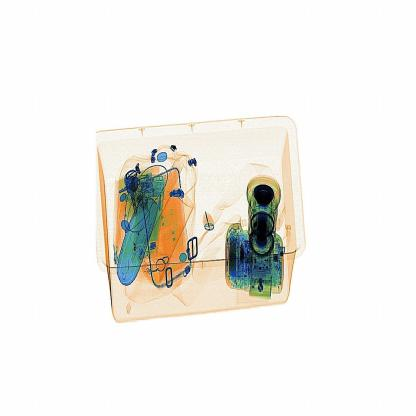wrench: (197, 201, 221, 231)
